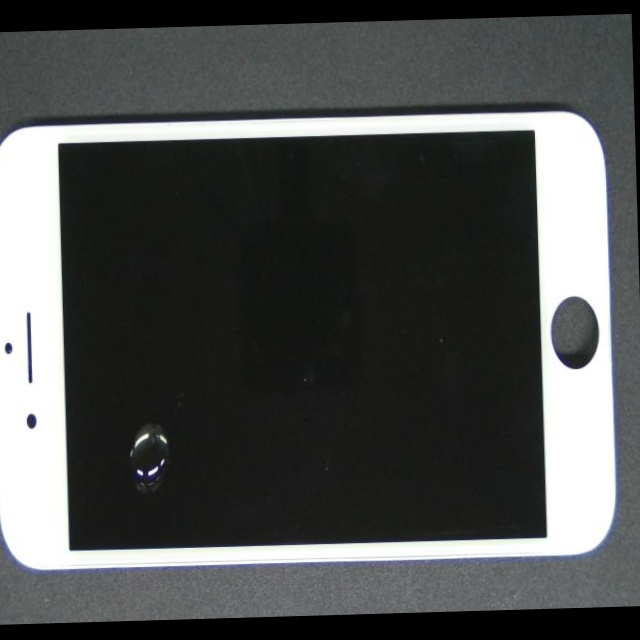oil: (66, 229, 280, 623)
